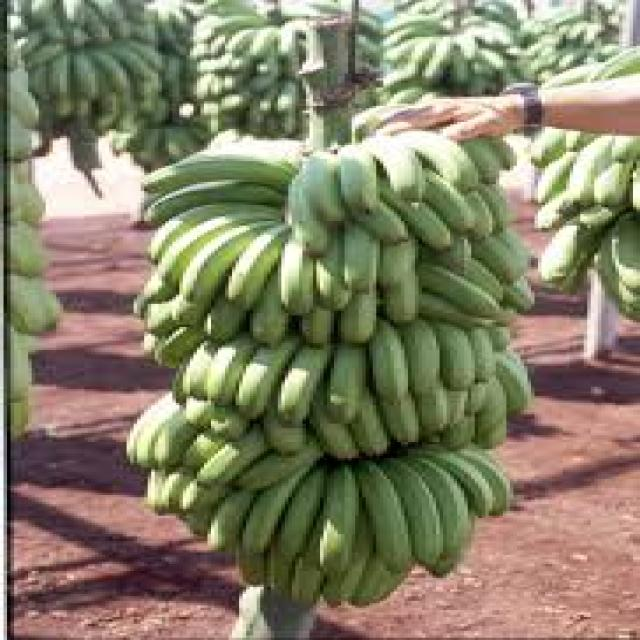banana: (147, 146, 536, 579)
